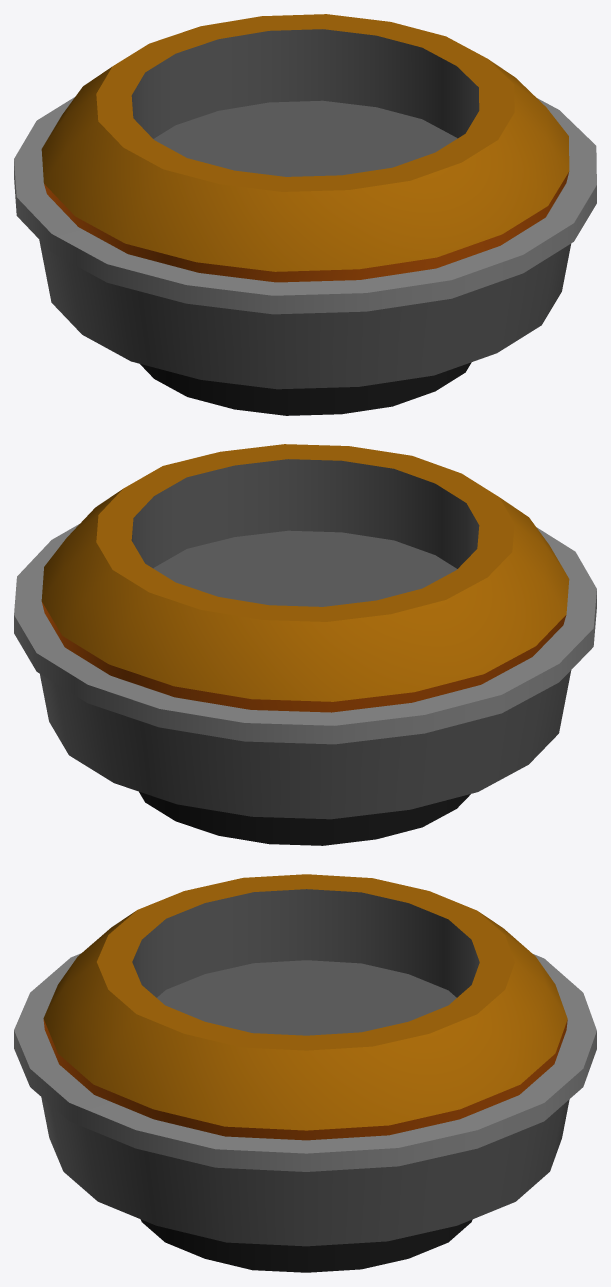
Rendered from SM_Element_Yellow.fbx.
3 renders of one model, top to bottom at view 1: azimuth 30°, elevation 25°; view 2: azimuth 150°, elevation 25°; view 3: azimuth 270°, elevation 25°, orthographic.
Parts seen in each view (by area): view 1: SM_Element_Yellow; view 2: SM_Element_Yellow; view 3: SM_Element_Yellow.
Part boxes in pixels (x1,y1,x2,y2): SM_Element_Yellow: (14,14,596,415); SM_Element_Yellow: (14,444,596,845); SM_Element_Yellow: (14,874,596,1272).
Size of the model in its own units: 2.27 by 1.02 by 2.28.
